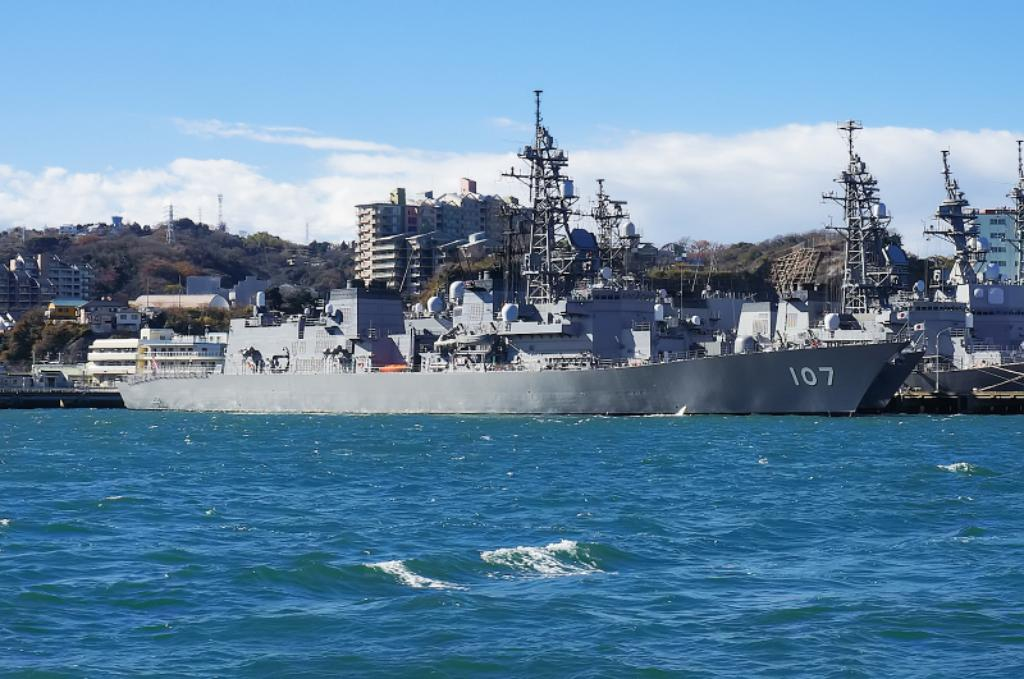Warship: (109, 82, 911, 418)
